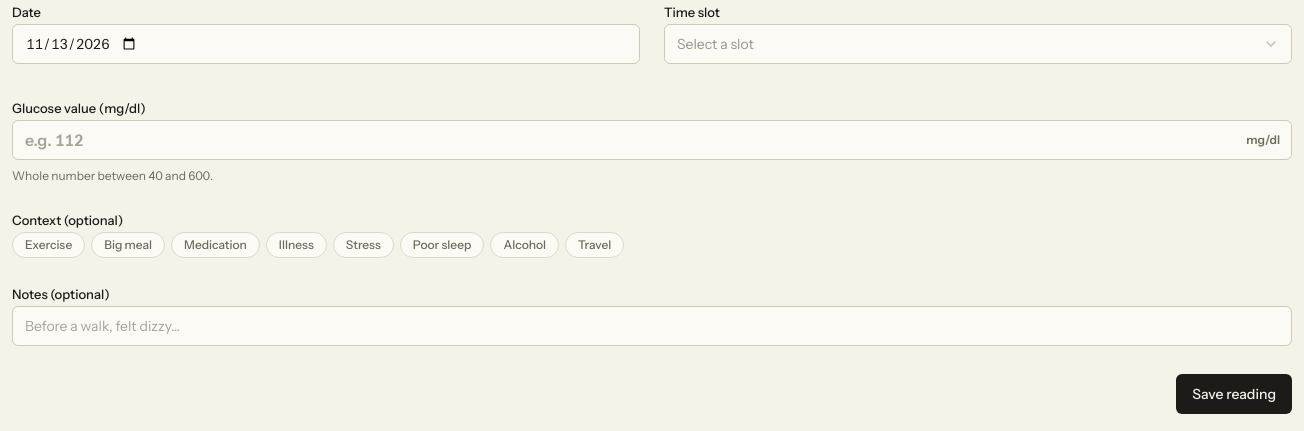
ReadingForm tags › shows the target range for the chosen slot
The image size is (1304, 431).
Click the dropdown named "time slot": x=715, y=44 left=664, top=24, right=1292, bottom=64
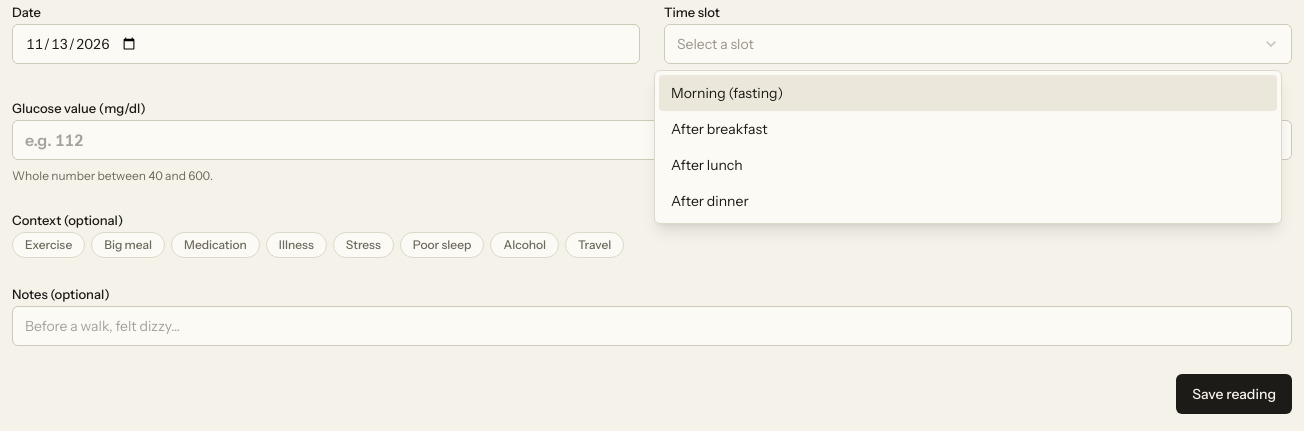
Click the option "Morning (fasting)": x=727, y=93 left=659, top=75, right=1277, bottom=111
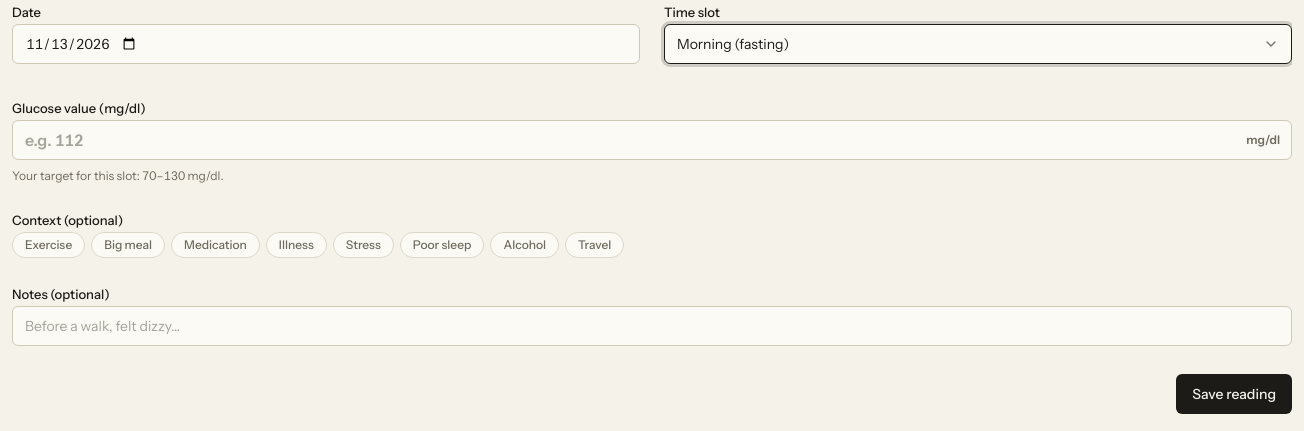
Expected: the text "Your target for this slot: 70–130 mg/dl." is shown, left=12, top=168, right=224, bottom=183
